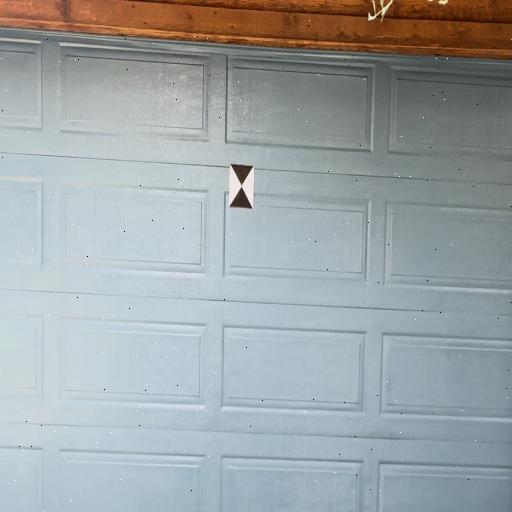target: (228, 164, 255, 208)
